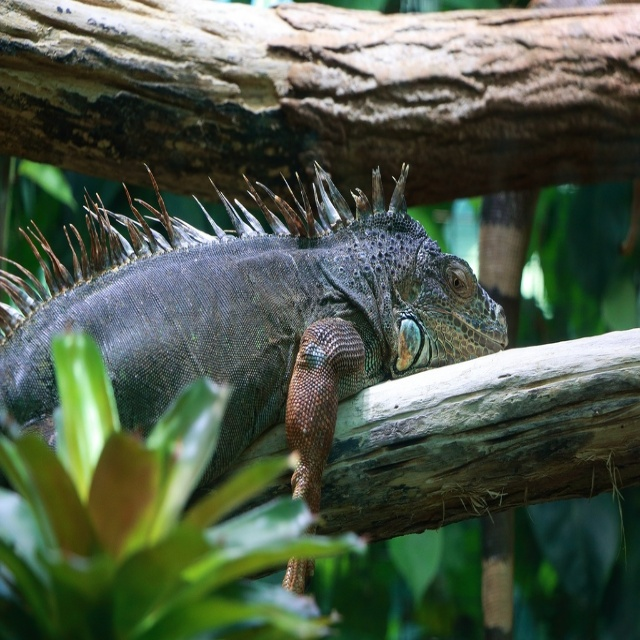Lizard: (26, 162, 500, 584)
